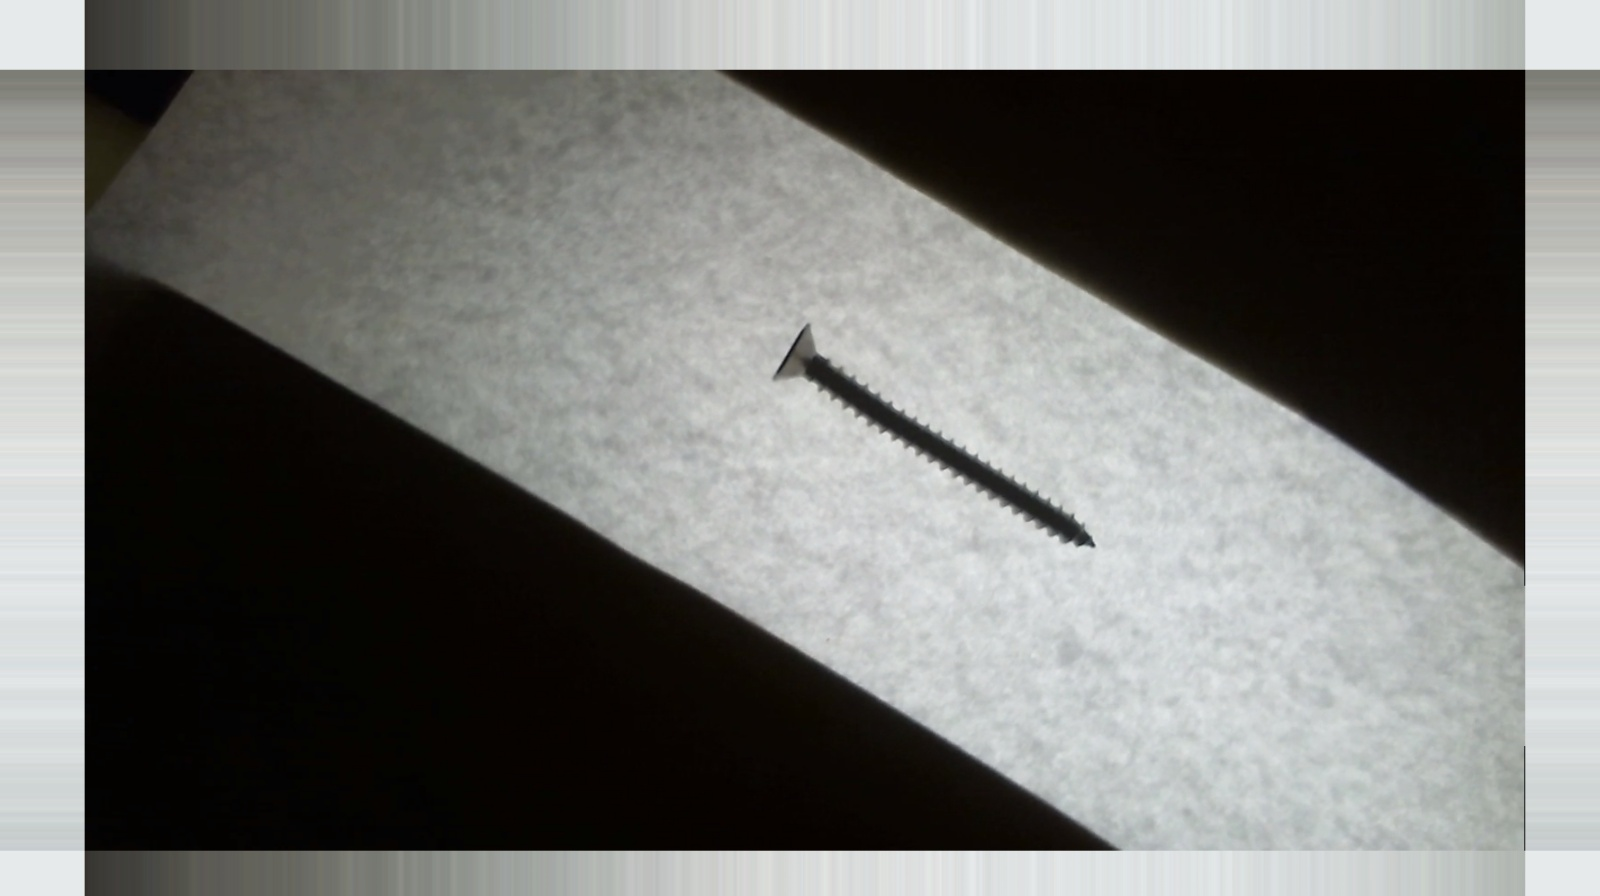S002: (767, 318, 1103, 563)
